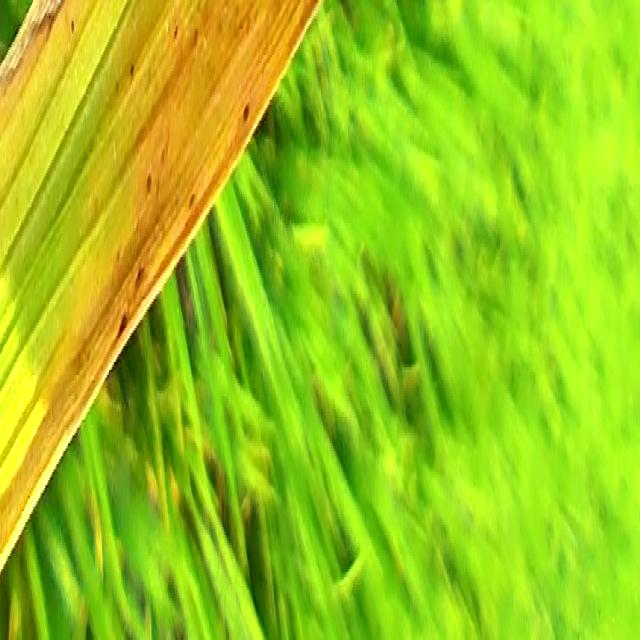LEAF BLAST: (1, 0, 64, 78)
